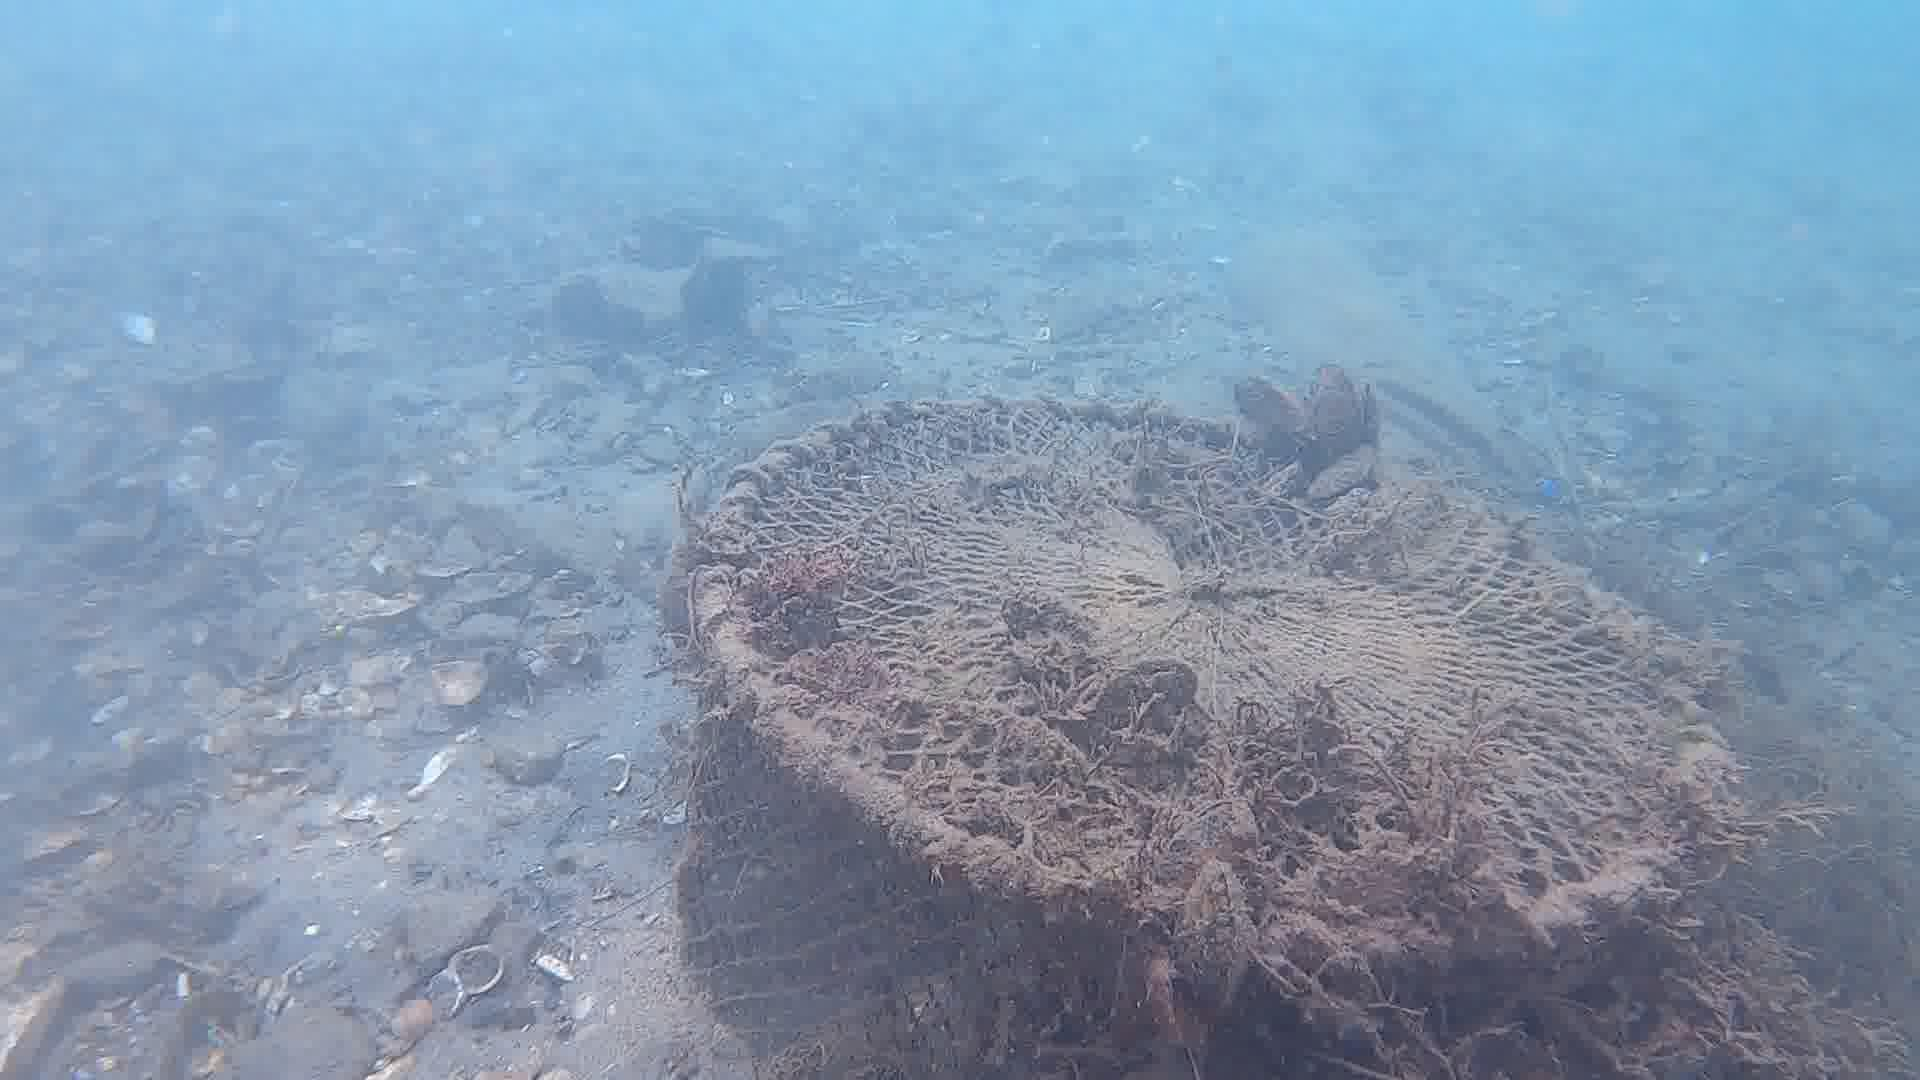circular fish trap: (675, 393, 1727, 1080)
